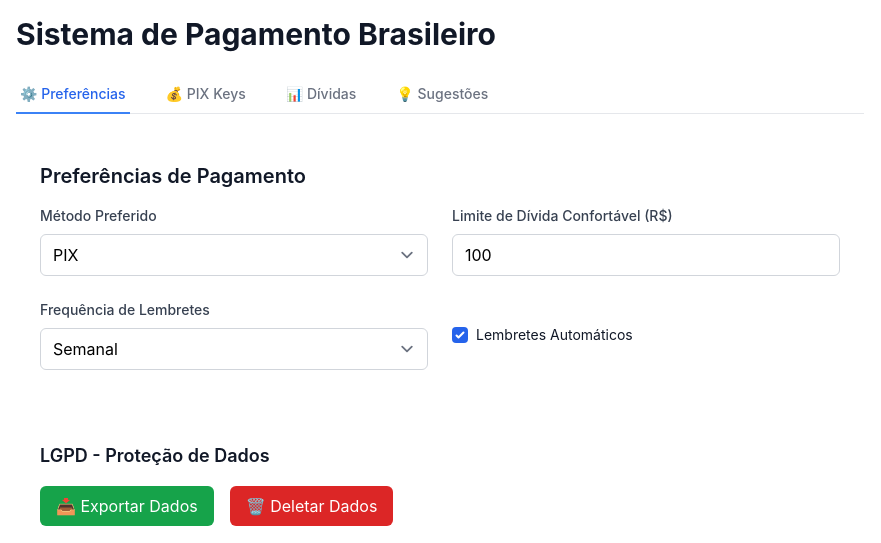
Test: Payment Interface Tests › PIX Payment Interface Tests › should validate PIX key input
Expected: the heading "Sistema de Pagamento Brasileiro" is shown, x1=16 y1=16 x2=496 y2=52
// Click on PIX tab
Click the button "💰 PIX Keys" at point(206, 95), box x1=162 y1=76 x2=250 y2=114
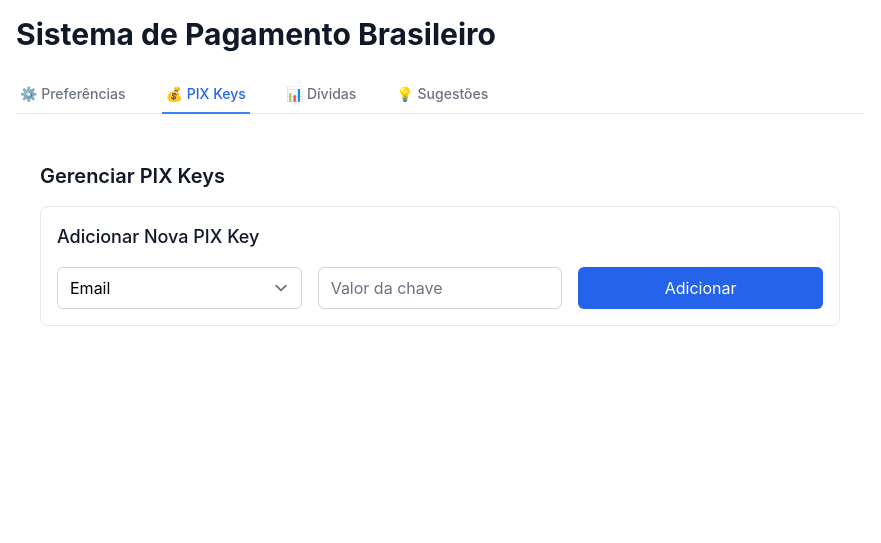
Expected: the heading "Adicionar Nova PIX Key" is shown, x1=57 y1=226 x2=259 y2=247
Click the button "Adicionar" at point(701, 288), box x1=578 y1=267 x2=823 y2=309
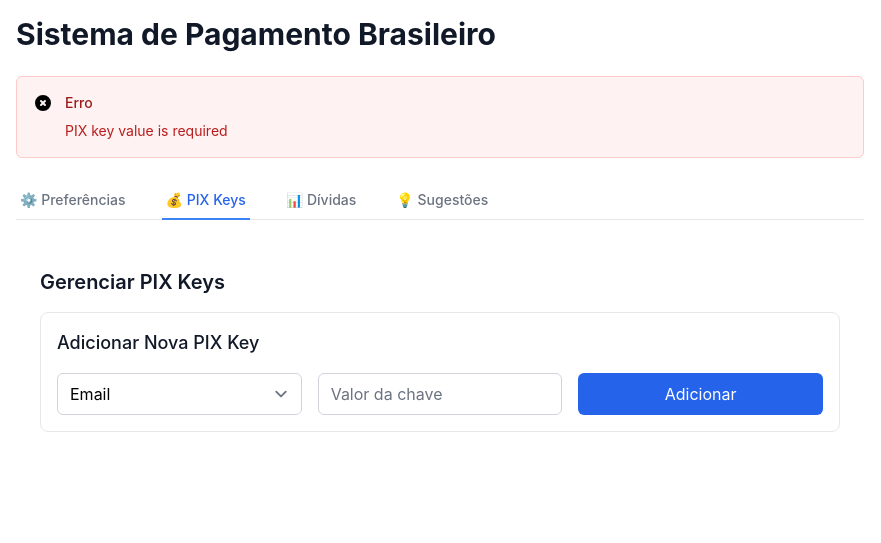
Expected: the text "PIX key value is required" is shown, x1=65 y1=121 x2=228 y2=141
